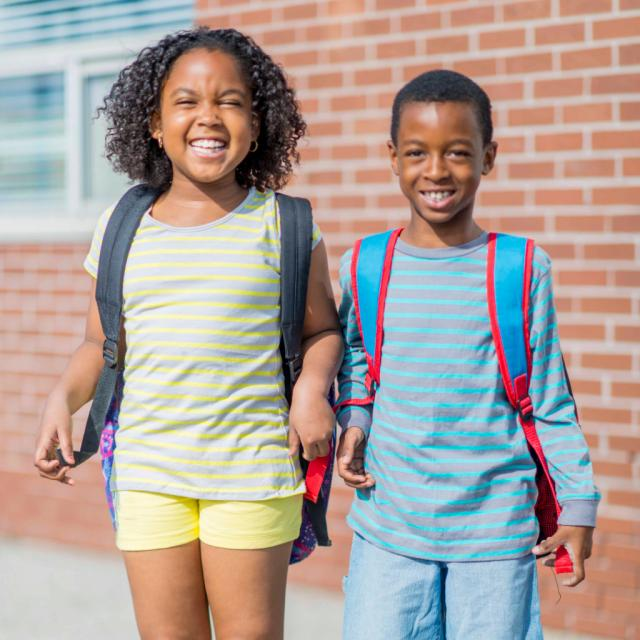child: (35, 29, 342, 640), (338, 62, 594, 636)
